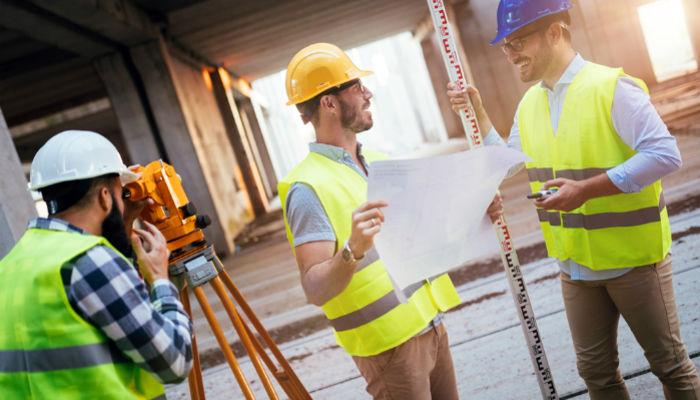helmet: (29, 130, 141, 195), (286, 43, 377, 109), (489, 1, 576, 47)
